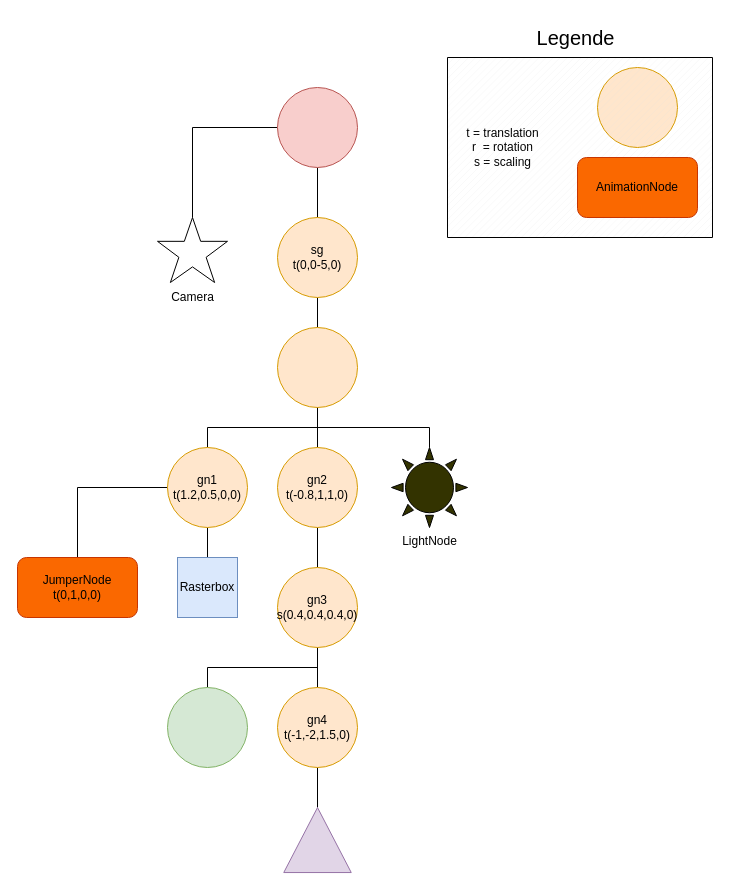
This 730x890 diagram has some shape labels left out. Here are the shapes that lost their labels. From the top down, the centre of each, then its label:
(x=317, y=127): sceneGraph (Root)
(x=637, y=107): GroupNode
(x=317, y=367): gn r(1,0,0,0)
(x=207, y=727): Sphere
(x=317, y=840): Pyramide
